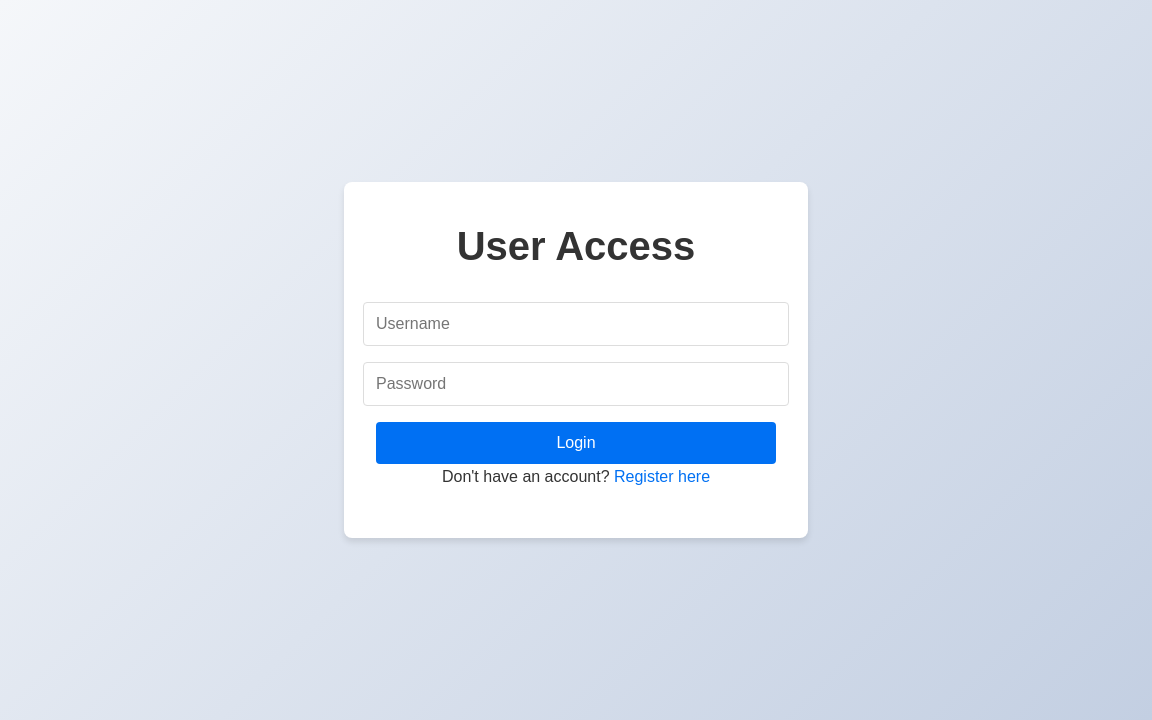
Test: Login Page › displays an error message when inputs are empty
What coordinates should you click on to do the following:
click the button "Login"
I would click on:
 (576, 443)
Its box is [376,422,776,464].
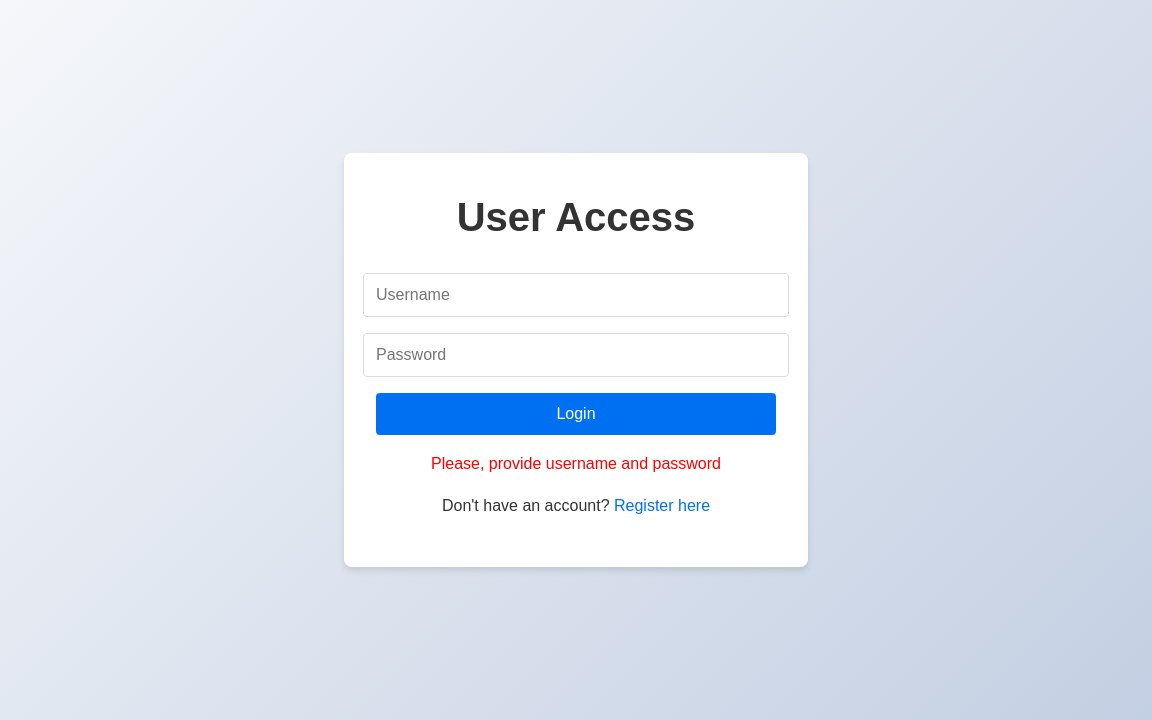
Expected: the text "Please, provide username and password" is shown, [431,451,721,477]
